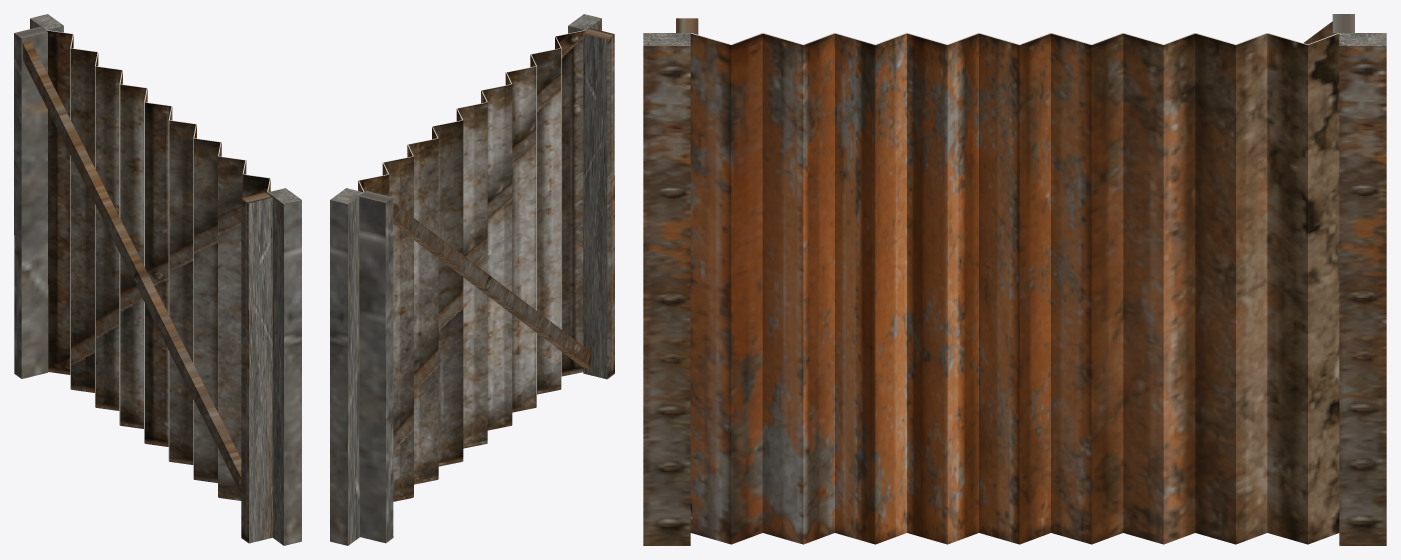
File: MetalSheets.fbx
3 renders of one model, left to right at view 1: azimuth 30°, elevation 25°; view 2: azimuth 150°, elevation 25°; view 3: azimuth 270°, elevation 25°, orthographic. The views are drawn at different scales.
Visible parts, largest first — view 1: Plane; view 2: Plane; view 3: Plane.
Part boxes in pixels (box(x1,y1,x2,y2)): Plane: box(14, 14, 301, 545); Plane: box(330, 14, 614, 545); Plane: box(643, 14, 1386, 545).
Bounding box in the file's own units: 41.93 × 306 × 412.
Materials: 1 (1 with a texture image).
